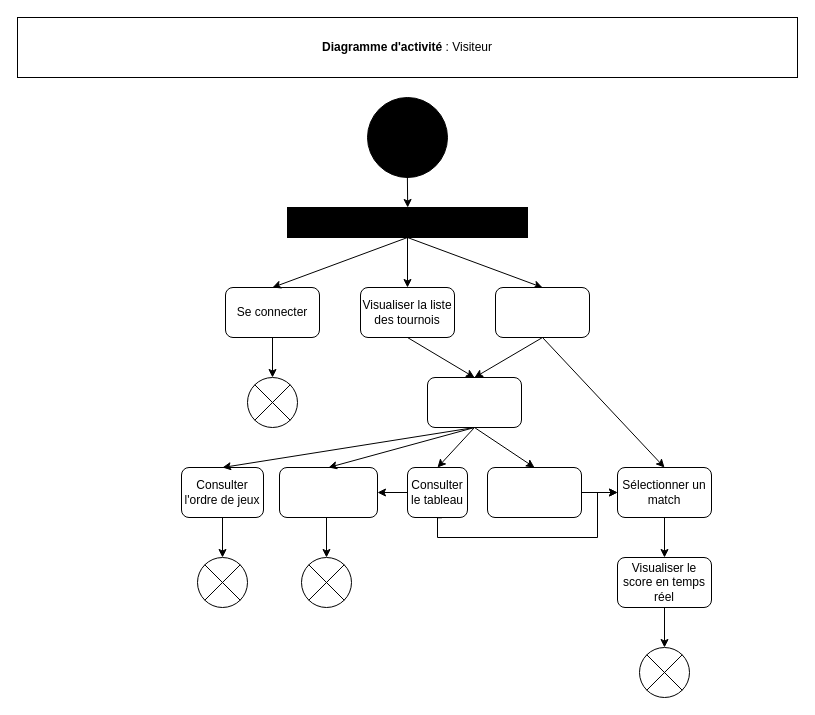
This 815x715 diagram has some shape labels left out. Each missing label, with the centre of its shape:
Consulter la liste des joueurs: point 328,492
Consulter les matchs en direct: point 534,492
Rechercher un tournoi ou un match: point 542,312
Sélectionner un tournoi: point 474,402
